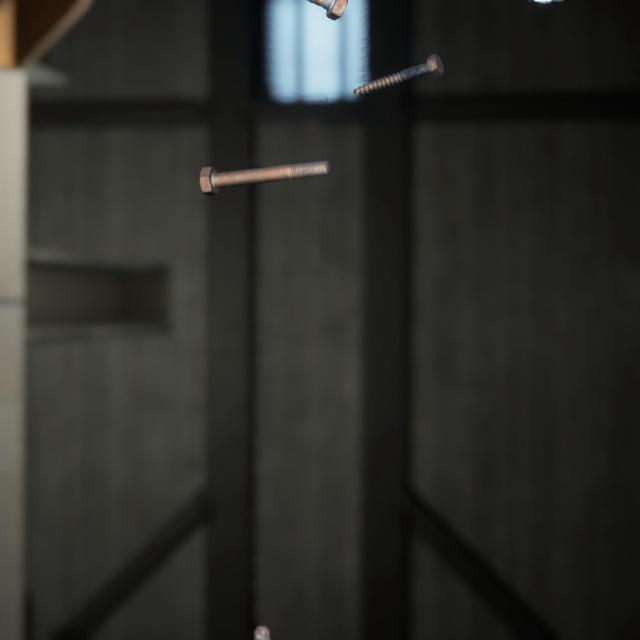bolt: (194, 141, 334, 185), (346, 39, 448, 89), (244, 595, 282, 640)
